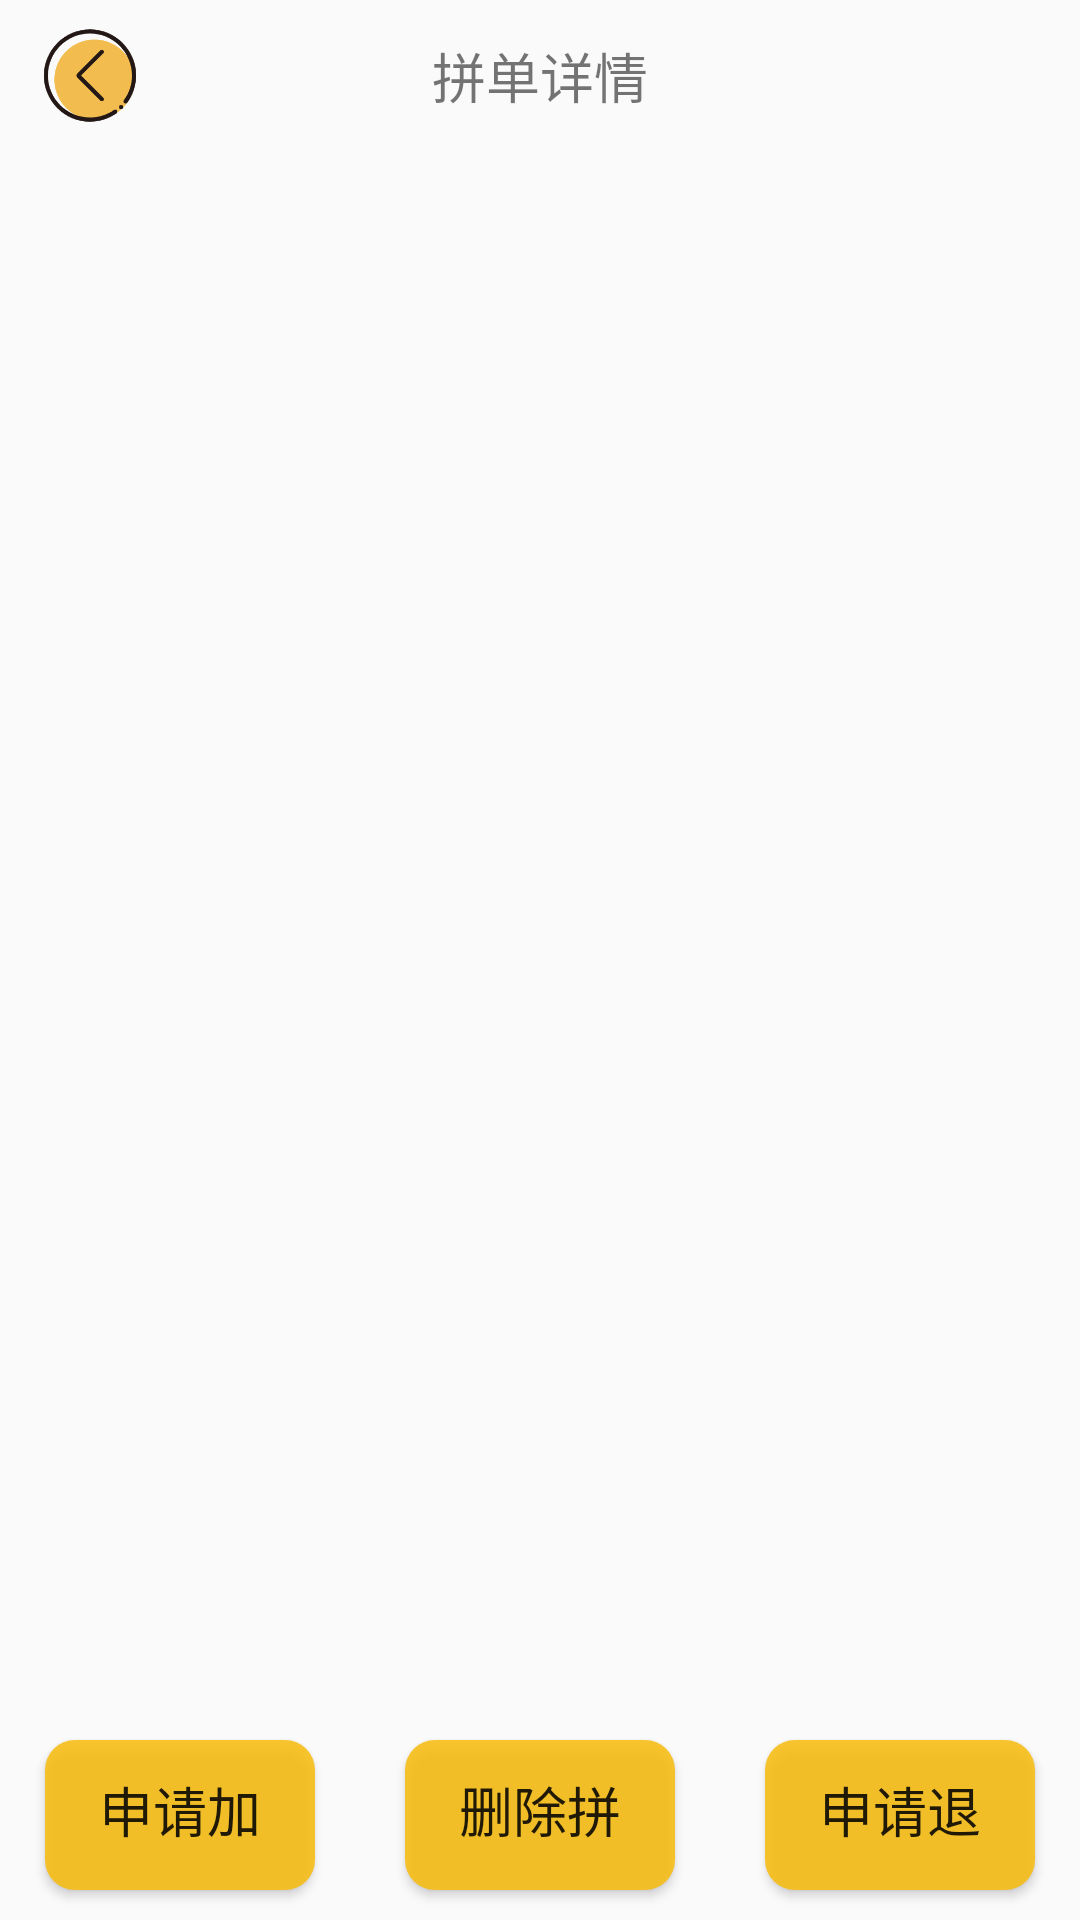

Locate icon controls on the screen. Image size 1080w x 1920h, boxes as (x1, y1, x2, y2).
fanhui: (44, 29, 136, 122)
